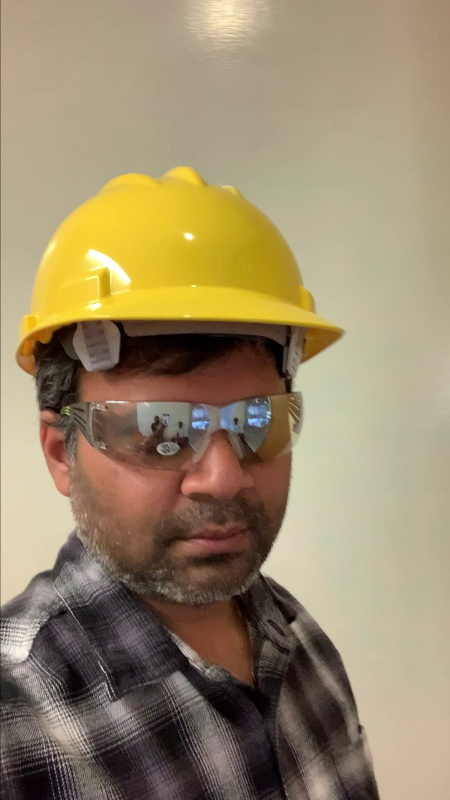glasses: (79, 387, 312, 478)
helmet: (10, 159, 356, 374)
